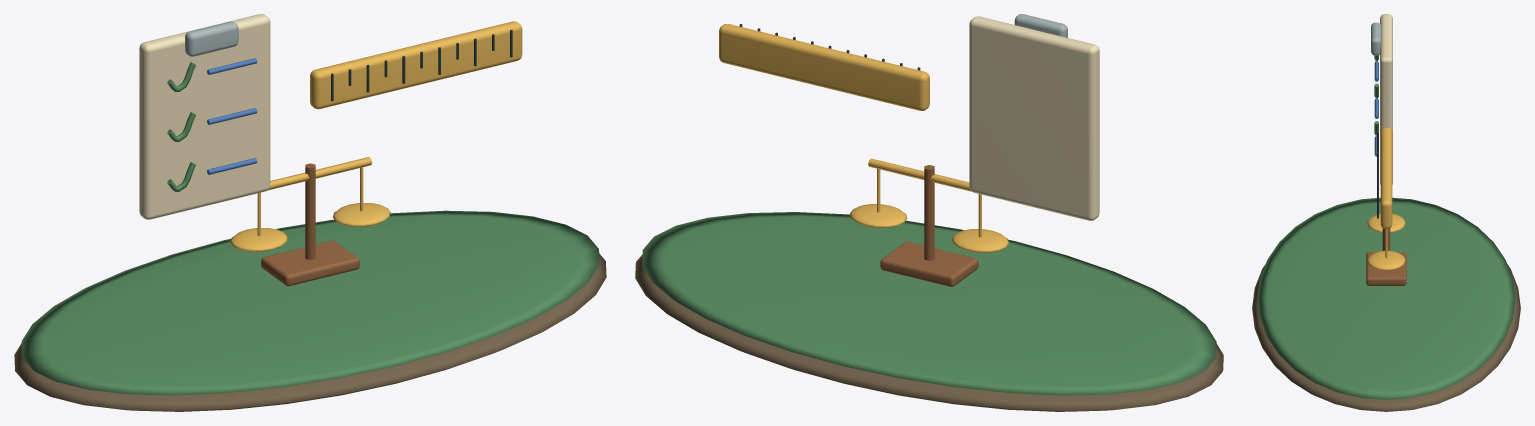
File: complete-second-method-law.glb
The picture shows the model from 3 angles, left to right: view 1: azimuth 30°, elevation 25°; view 2: azimuth 150°, elevation 25°; view 3: azimuth 270°, elevation 25°; orthographic projection. The views are drawn at different scales.
Parts seen in each view (by area): view 1: complete-second-method-law_surface_01, complete-second-method-law_surface_02, complete-second-method-law_surface_05, complete-second-method-law_surface_00, complete-second-method-law_surface_07, complete-second-method-law_surface_03, complete-second-method-law_surface_04, complete-second-method-law_surface_06; view 2: complete-second-method-law_surface_01, complete-second-method-law_surface_02, complete-second-method-law_surface_05, complete-second-method-law_surface_00, complete-second-method-law_surface_07, complete-second-method-law_surface_03; view 3: complete-second-method-law_surface_01, complete-second-method-law_surface_00, complete-second-method-law_surface_05, complete-second-method-law_surface_02, complete-second-method-law_surface_07, complete-second-method-law_surface_03, complete-second-method-law_surface_04.
Boxes of the visible parts, left/top/right/bottom form: complete-second-method-law_surface_01: left=21, top=62, right=599, bottom=395; complete-second-method-law_surface_02: left=139, top=14, right=270, bottom=219; complete-second-method-law_surface_05: left=230, top=21, right=522, bottom=251; complete-second-method-law_surface_00: left=14, top=254, right=606, bottom=411; complete-second-method-law_surface_07: left=261, top=163, right=359, bottom=286; complete-second-method-law_surface_03: left=185, top=21, right=238, bottom=56; complete-second-method-law_surface_04: left=207, top=58, right=257, bottom=174; complete-second-method-law_surface_06: left=331, top=30, right=512, bottom=101; complete-second-method-law_surface_01: left=642, top=212, right=1216, bottom=395; complete-second-method-law_surface_02: left=969, top=16, right=1099, bottom=220; complete-second-method-law_surface_05: left=719, top=24, right=1008, bottom=252; complete-second-method-law_surface_00: left=635, top=254, right=1223, bottom=411; complete-second-method-law_surface_07: left=880, top=165, right=978, bottom=286; complete-second-method-law_surface_03: left=1014, top=14, right=1067, bottom=37; complete-second-method-law_surface_01: left=1257, top=55, right=1515, bottom=399; complete-second-method-law_surface_00: left=1252, top=264, right=1520, bottom=411; complete-second-method-law_surface_05: left=1367, top=127, right=1405, bottom=270; complete-second-method-law_surface_02: left=1380, top=14, right=1392, bottom=184; complete-second-method-law_surface_07: left=1366, top=228, right=1406, bottom=285; complete-second-method-law_surface_03: left=1371, top=22, right=1381, bottom=55; complete-second-method-law_surface_04: left=1374, top=61, right=1378, bottom=156.
Bounding box in the file's own units: 4.56 × 2.59 × 2.5.
